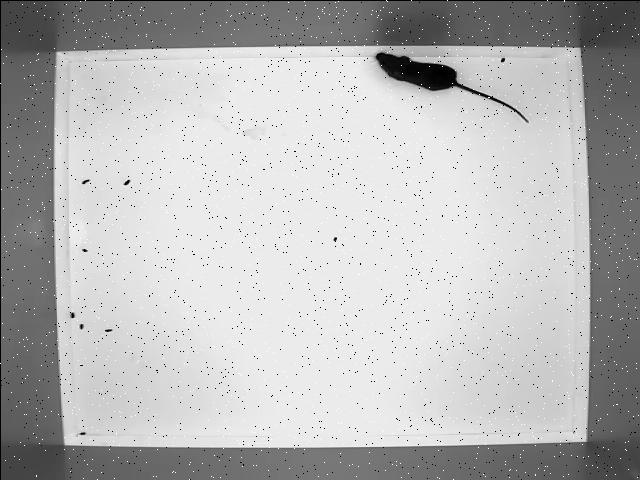Tikus: (365, 49, 532, 128)
